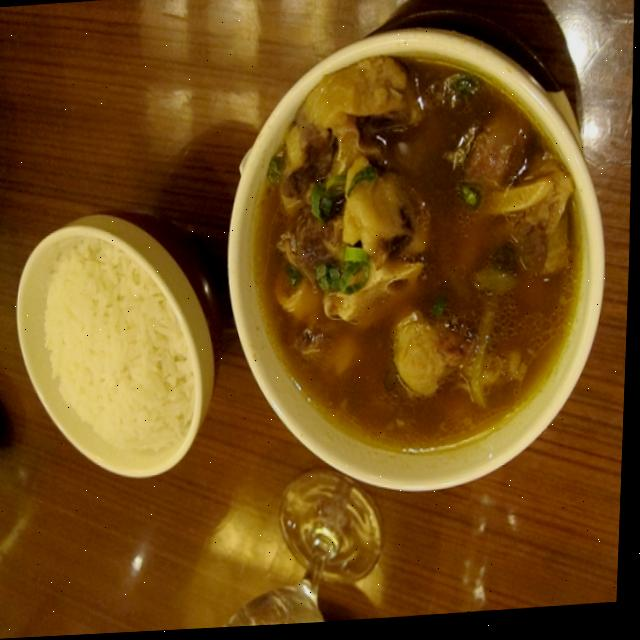汤锅炖物: (208, 0, 636, 536)
